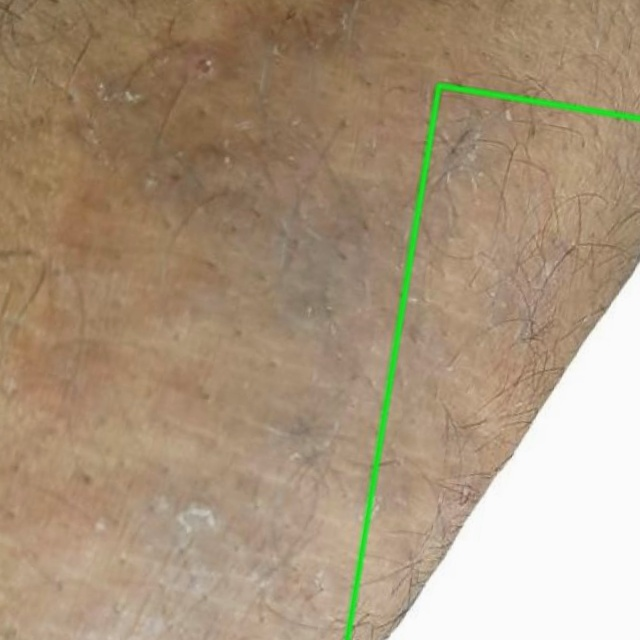Tinea Corporis: (347, 85, 639, 639)
